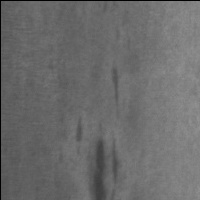inclusion: (87, 122, 125, 200), (106, 62, 125, 117), (71, 114, 86, 156)
